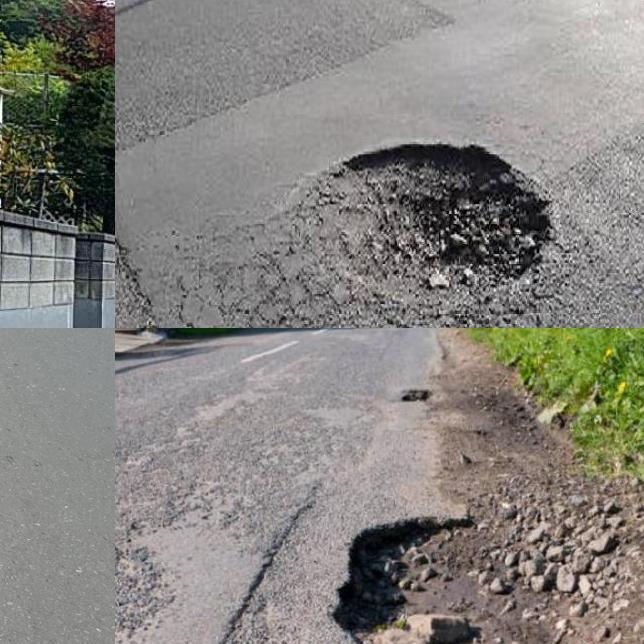Lubang: (321, 139, 545, 299)
Pinggir: (317, 510, 548, 644)
